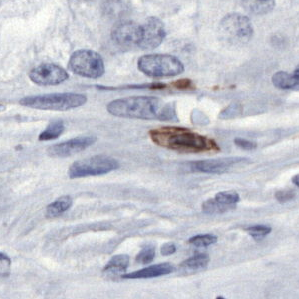Lymphocyte: (148, 121, 224, 154)
